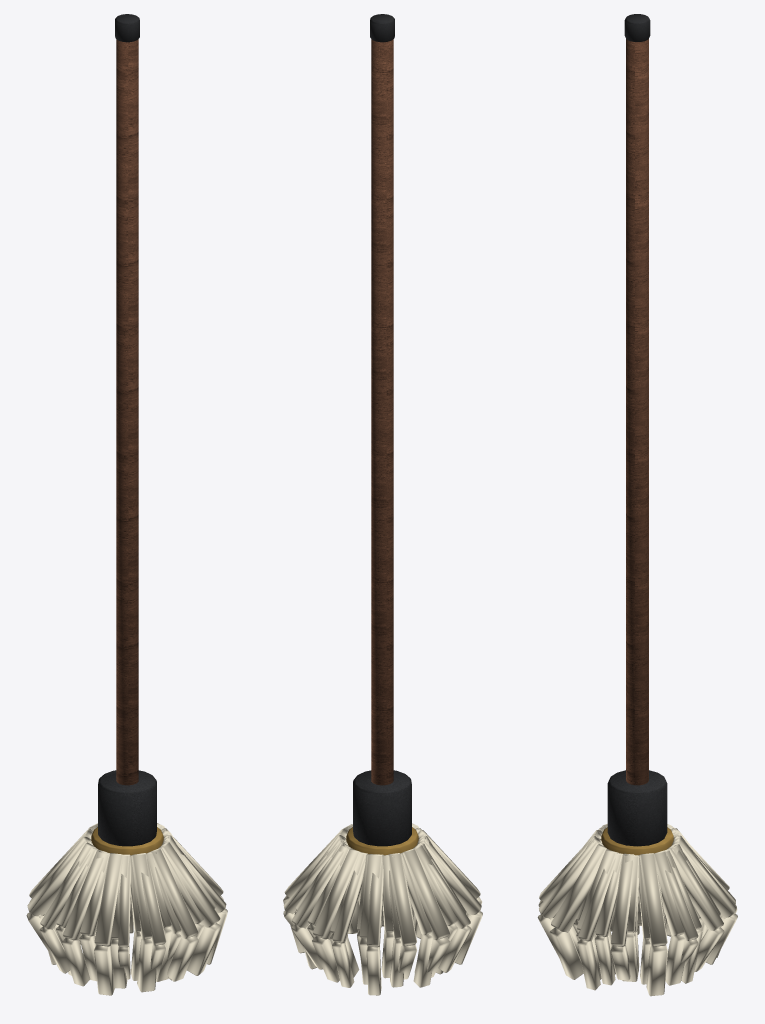
File: asset_072_mop.glb
3 views of the same model, side by side, from view 1: azimuth 30°, elevation 25°; view 2: azimuth 150°, elevation 25°; view 3: azimuth 270°, elevation 25° (orthographic).
Parts seen in each view (by area): view 1: MESH_MopSkirt, MESH_MopHandle, MESH_MopCollar, MESH_MopBand, MESH_MopHandleCap; view 2: MESH_MopSkirt, MESH_MopHandle, MESH_MopCollar, MESH_MopBand, MESH_MopHandleCap; view 3: MESH_MopSkirt, MESH_MopHandle, MESH_MopCollar, MESH_MopBand, MESH_MopHandleCap.
Boxes of the visible parts, box(x1,y1,x2,y2) form: MESH_MopSkirt: box(26, 823, 227, 995); MESH_MopHandle: box(116, 39, 138, 785); MESH_MopCollar: box(98, 770, 156, 846); MESH_MopBand: box(91, 827, 163, 855); MESH_MopHandleCap: box(115, 14, 139, 42); MESH_MopSkirt: box(283, 823, 482, 995); MESH_MopHandle: box(371, 39, 393, 785); MESH_MopCollar: box(353, 770, 411, 846); MESH_MopBand: box(346, 827, 418, 855); MESH_MopHandleCap: box(370, 14, 394, 42); MESH_MopSkirt: box(537, 823, 737, 996); MESH_MopHandle: box(626, 39, 648, 785); MESH_MopCollar: box(607, 770, 667, 846); MESH_MopBand: box(601, 827, 673, 855); MESH_MopHandleCap: box(624, 14, 650, 41).
Size of the model in its own units: 0.32 by 1.47 by 0.32.
Materials: 5 (3 with a texture image).
